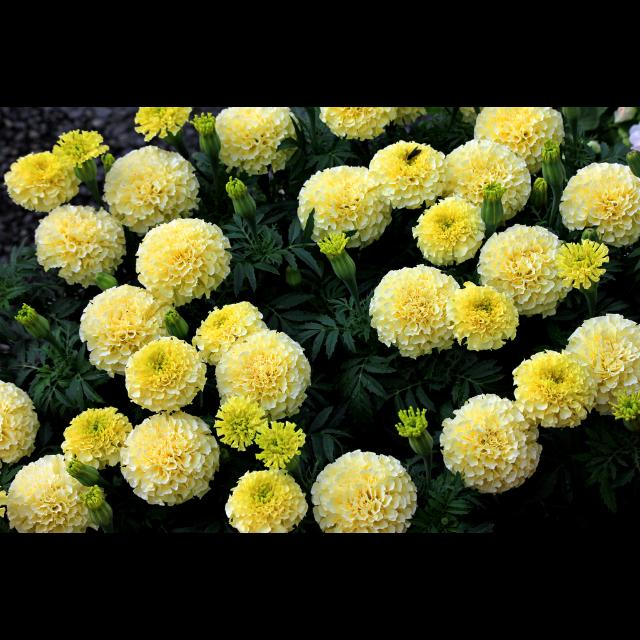Flower: (440, 395, 544, 495), (474, 224, 576, 316), (309, 448, 416, 534), (120, 412, 220, 502), (102, 144, 200, 234), (138, 218, 234, 308), (369, 264, 459, 360), (220, 325, 308, 421), (37, 202, 129, 288), (78, 286, 162, 380), (298, 164, 392, 246), (8, 457, 112, 531), (444, 138, 532, 224), (559, 160, 639, 244), (569, 314, 639, 408), (515, 348, 599, 426), (127, 333, 207, 412), (406, 195, 490, 265), (216, 107, 298, 175), (475, 107, 561, 171), (370, 138, 444, 206), (60, 405, 134, 471), (4, 152, 80, 212), (192, 301, 264, 364), (456, 282, 516, 351), (318, 229, 362, 303), (51, 126, 109, 180), (213, 392, 267, 450), (2, 384, 38, 464), (554, 239, 608, 291), (254, 418, 306, 468), (322, 108, 396, 142), (6, 298, 52, 342), (134, 107, 192, 139), (398, 401, 429, 459), (607, 386, 639, 440), (223, 177, 259, 216)
